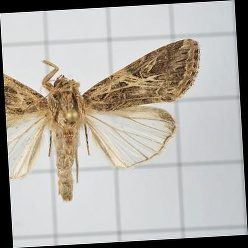Spodoptera litura: (6, 42, 205, 201)
